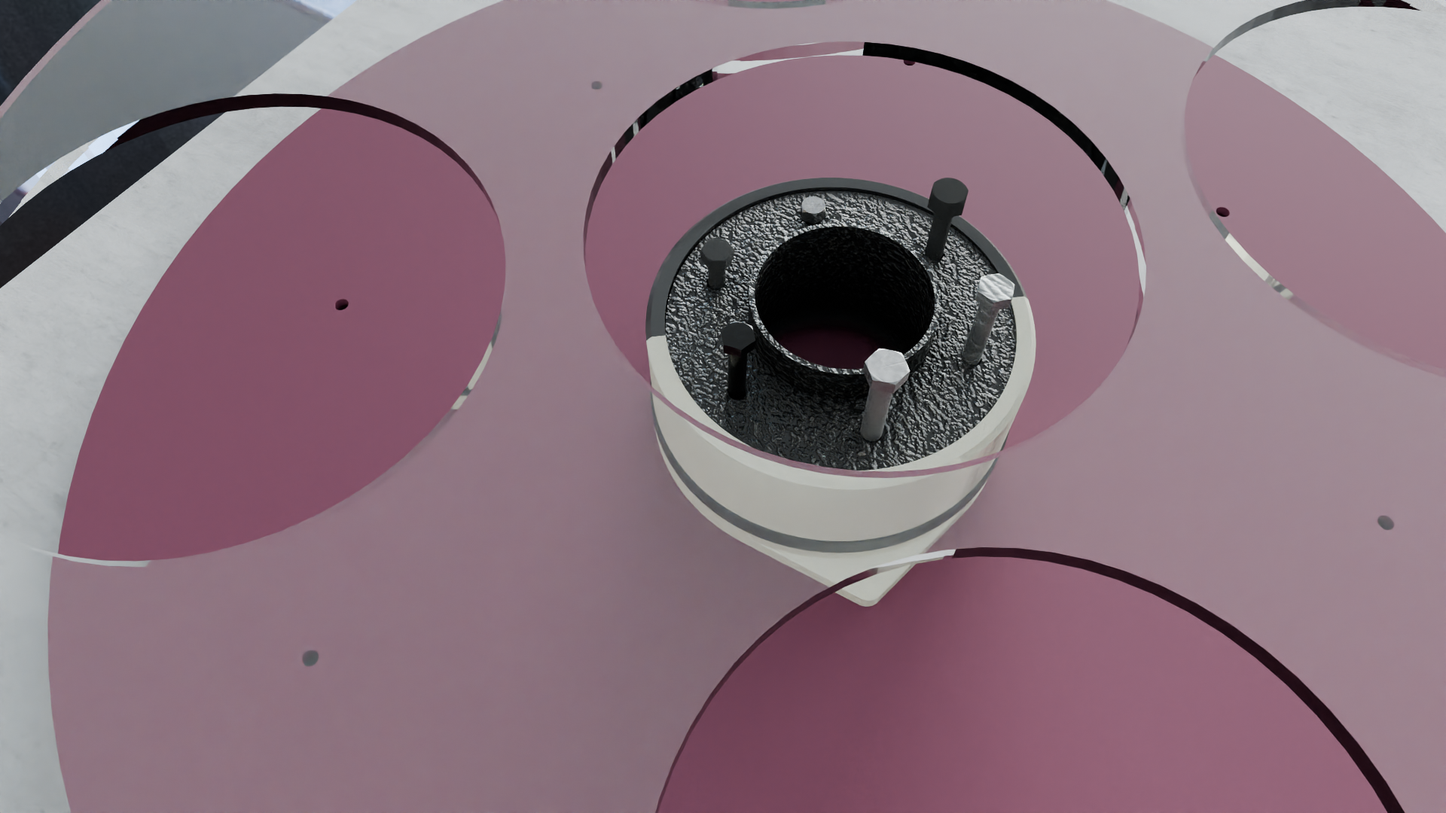bolt: (865, 349, 910, 385), (930, 178, 969, 208), (978, 273, 1014, 303), (721, 321, 755, 350), (700, 239, 734, 262), (801, 196, 825, 217)
